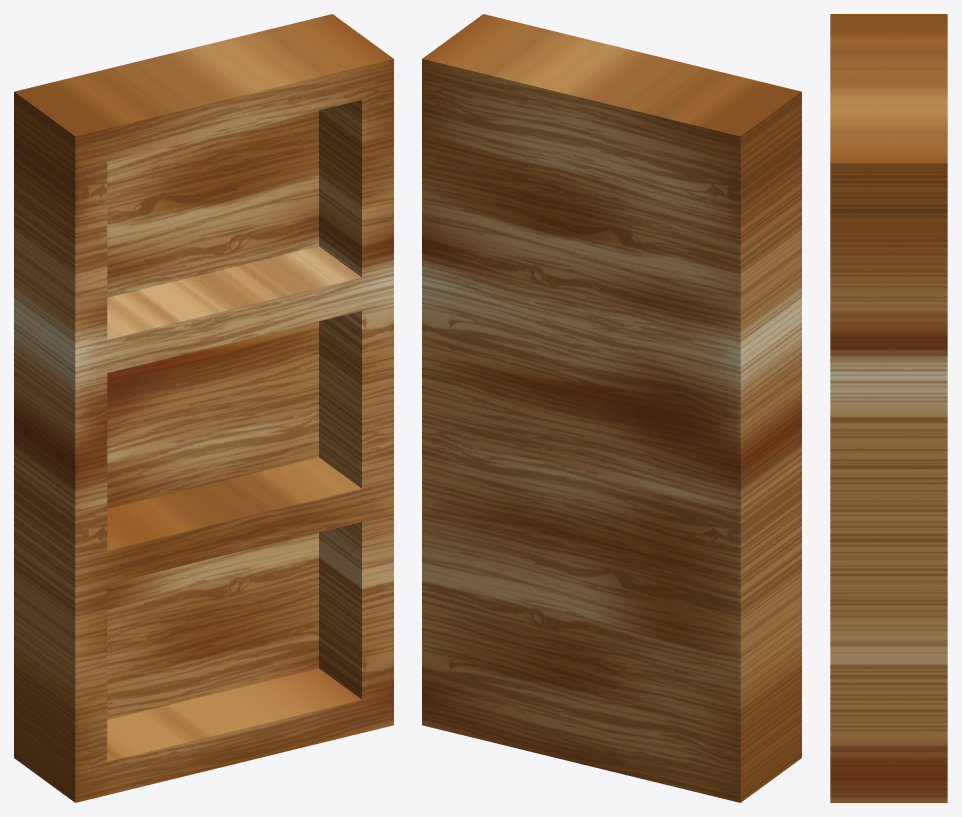
File: Furniture_Shelf.fbx
The picture shows the model from 3 angles, left to right: view 1: azimuth 30°, elevation 25°; view 2: azimuth 150°, elevation 25°; view 3: azimuth 270°, elevation 25°; orthographic projection. The views are drawn at different scales.
Parts seen in each view (by area): view 1: pCube1; view 2: pCube1; view 3: pCube1.
Boxes of the visible parts, x1,y1,x2,y2 form: pCube1: (14, 14, 393, 802); pCube1: (422, 14, 801, 802); pCube1: (830, 14, 947, 802).
Bounding box in the file's own units: 150 × 300 × 50.
1 material, 1 textured.
